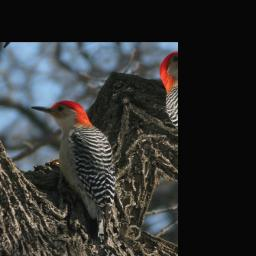Woodpecker: (19, 82, 149, 251)
